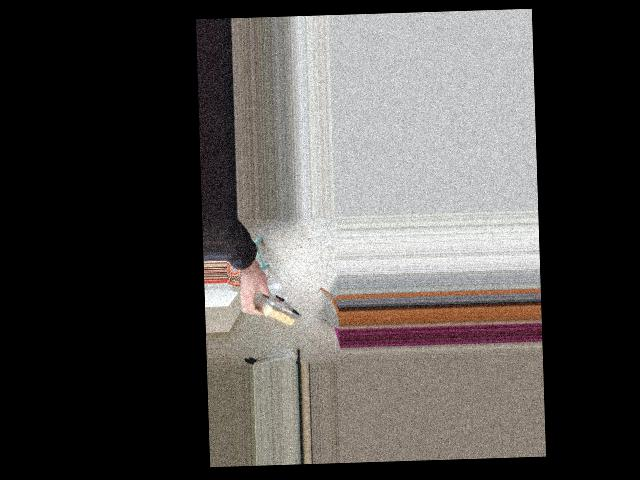cheese: (231, 279, 304, 338)
